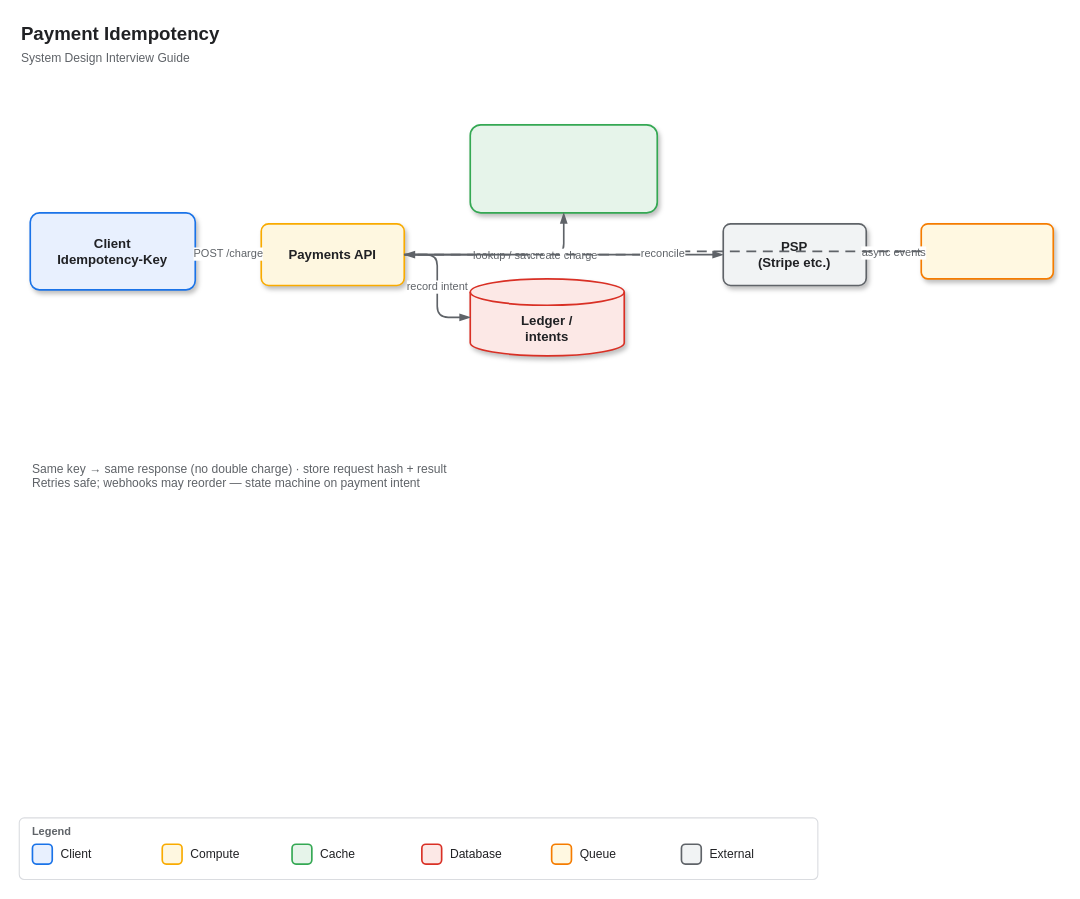
Some shapes in this 1080 by 899 pixel diagram are drawn without their labels. The shapes that lost their labels are listed below. From the top down, each one's centre as x and y in pixels, then its label:
At (x=564, y=170): "Idempotency store (Redis/DB) key → response".
At (x=988, y=252): "Webhook Q".
